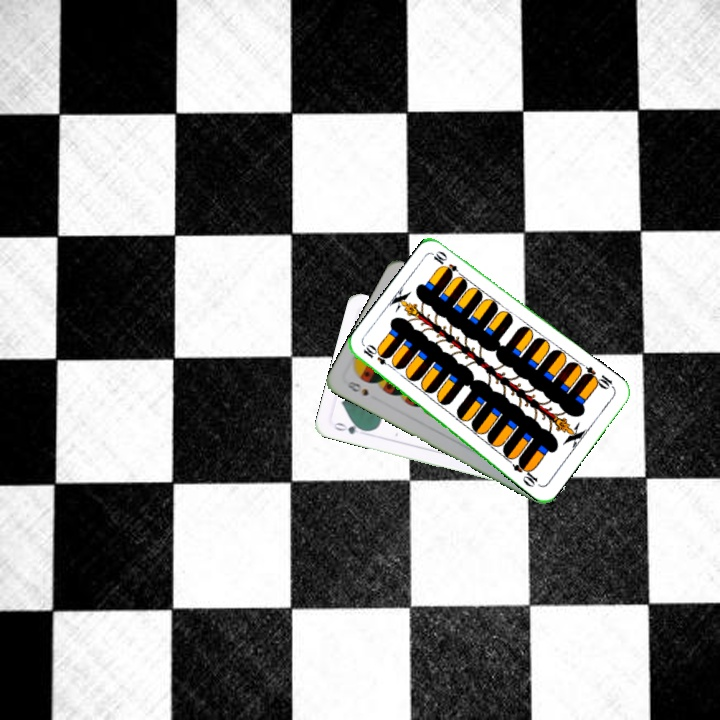E10: (579, 362, 617, 392), (359, 341, 396, 371)
GO: (330, 418, 370, 437)
S8: (343, 377, 371, 399)
